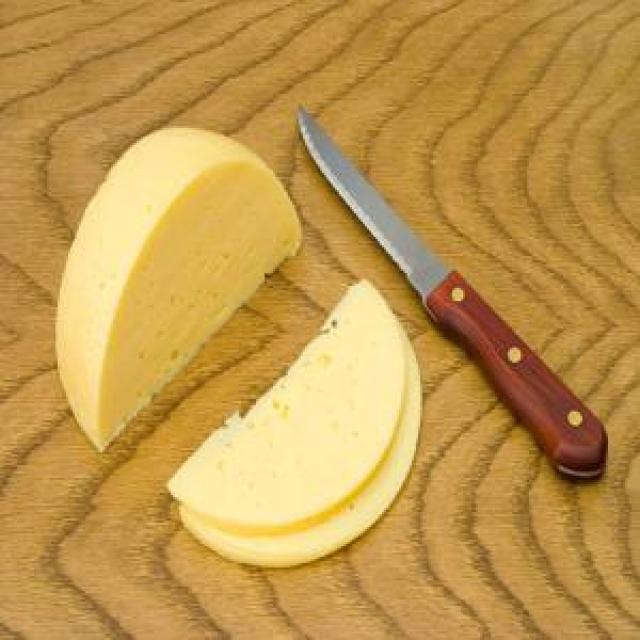knife: (278, 96, 616, 481)
